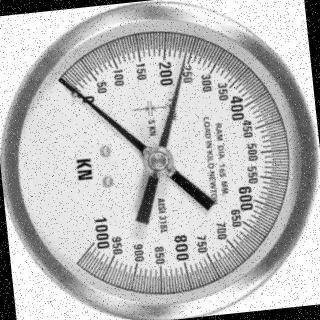gauge: (0, 0, 320, 320), (68, 209, 114, 263), (44, 70, 84, 104), (140, 144, 176, 179), (54, 74, 72, 90), (178, 42, 194, 59)
